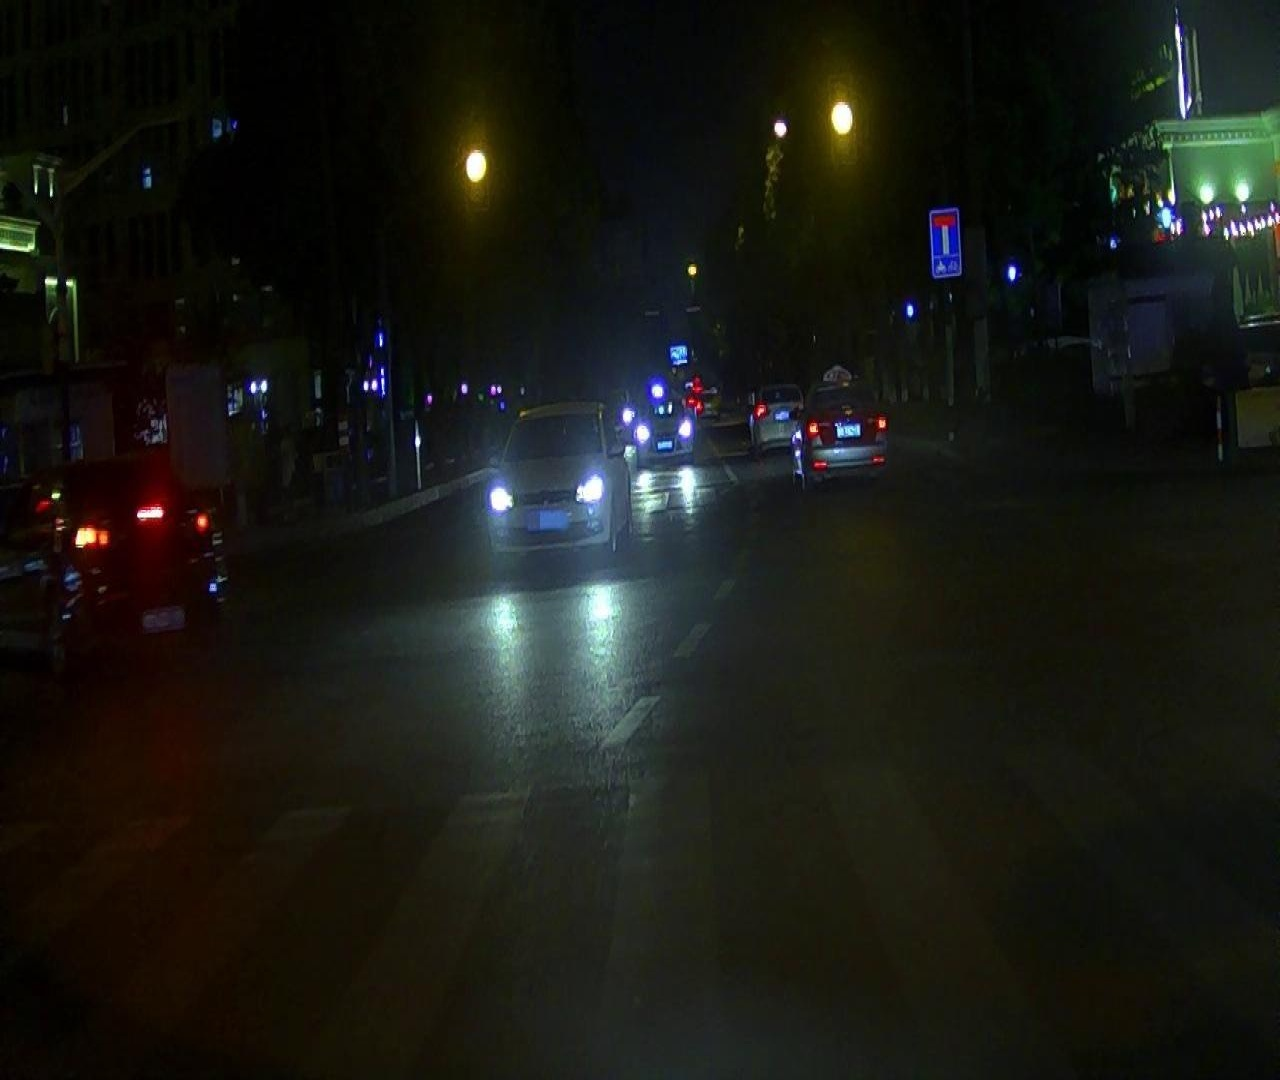yellow: (824, 85, 859, 147), (463, 138, 491, 190)
